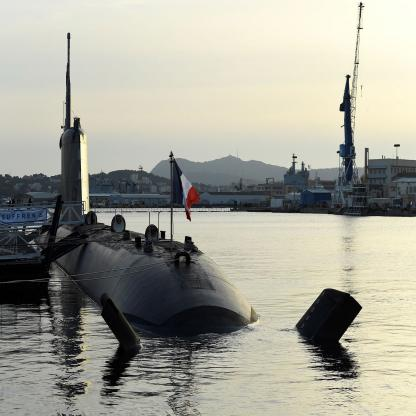Submarine: (33, 32, 363, 350)
